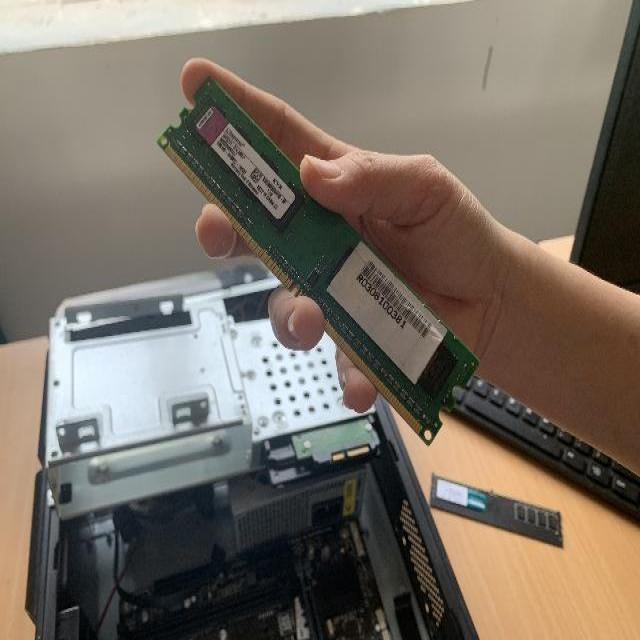RAM: (152, 71, 484, 448), (426, 467, 570, 546)
